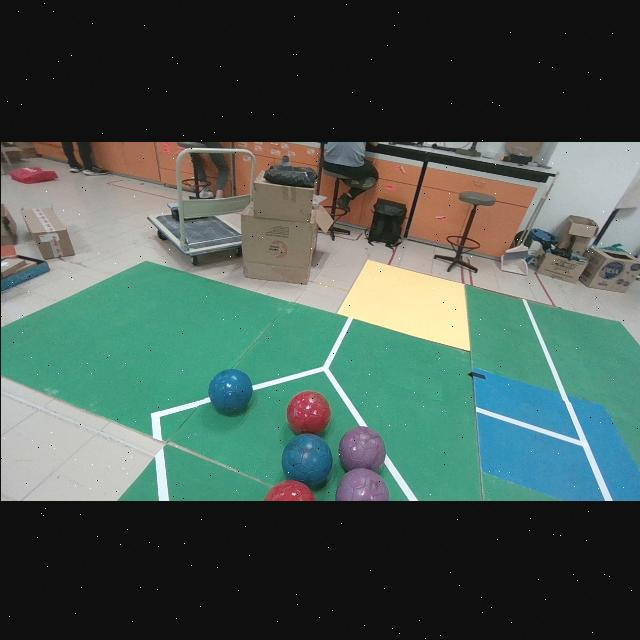B: (281, 432, 331, 486), (207, 367, 252, 411)
P: (337, 425, 384, 471), (335, 467, 388, 500)
R: (286, 390, 330, 432), (262, 478, 315, 500)
